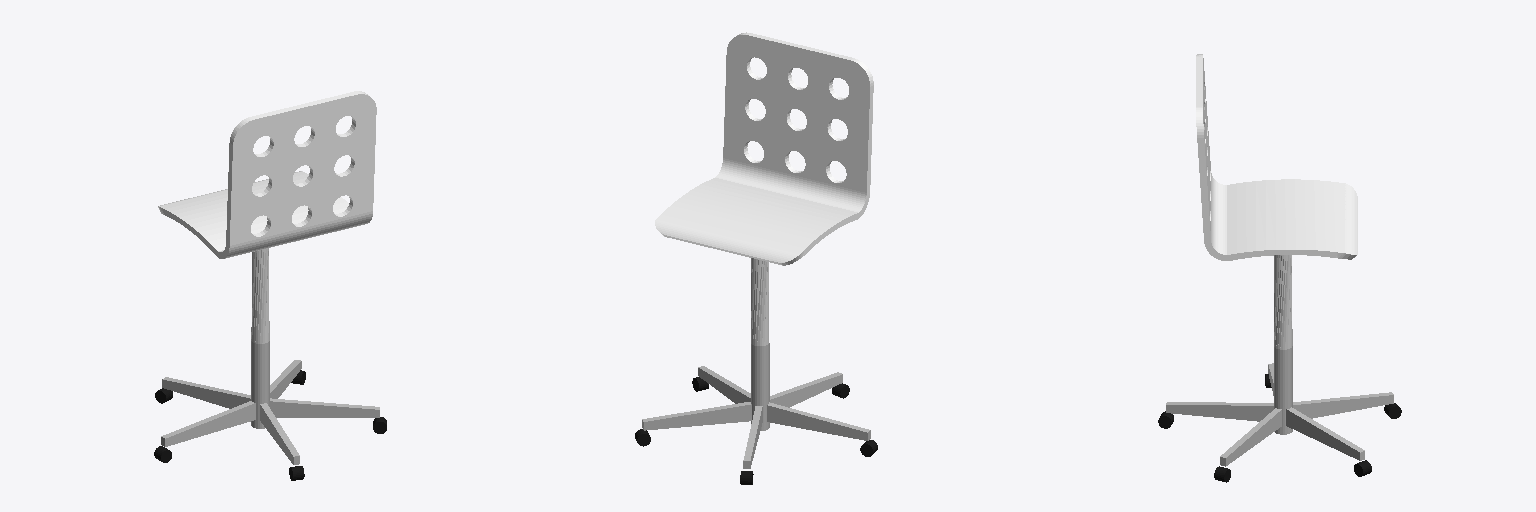
The picture shows the model from 3 angles: view 1: azimuth 30°, elevation 25°; view 2: azimuth 150°, elevation 25°; view 3: azimuth 270°, elevation 25°; orthographic projection.
Visible parts, largest first — view 1: Mesh1 Group2 Group1 Model, Mesh12 Group3 ske3F1 Group1 Model, Mesh11 Group8 Group3 ske3F1 Group1 Model, Mesh9 Group7 Group3 ske3F1 Group1 Model, Mesh7 Group6 Group3 ske3F1 Group1 Model, Mesh5 Group5 Group3 ske3F1 Group1 Model, Mesh3 Group4 Group3 ske3F1 Group1 Model; view 2: Mesh1 Group2 Group1 Model, Mesh12 Group3 ske3F1 Group1 Model, Mesh3 Group4 Group3 ske3F1 Group1 Model, Mesh9 Group7 Group3 ske3F1 Group1 Model, Mesh5 Group5 Group3 ske3F1 Group1 Model, Mesh11 Group8 Group3 ske3F1 Group1 Model, Mesh7 Group6 Group3 ske3F1 Group1 Model; view 3: Mesh1 Group2 Group1 Model, Mesh12 Group3 ske3F1 Group1 Model, Mesh5 Group5 Group3 ske3F1 Group1 Model, Mesh7 Group6 Group3 ske3F1 Group1 Model, Mesh3 Group4 Group3 ske3F1 Group1 Model, Mesh11 Group8 Group3 ske3F1 Group1 Model.
Part boxes in pixels (x1,y1,x2,y2): Mesh1 Group2 Group1 Model: (158,91,376,258); Mesh12 Group3 ske3F1 Group1 Model: (251,248,269,428); Mesh11 Group8 Group3 ske3F1 Group1 Model: (269,398,379,417); Mesh9 Group7 Group3 ske3F1 Group1 Model: (161,401,255,446); Mesh7 Group6 Group3 ske3F1 Group1 Model: (162,377,250,408); Mesh5 Group5 Group3 ske3F1 Group1 Model: (260,403,299,464); Mesh3 Group4 Group3 ske3F1 Group1 Model: (270,360,301,398); Mesh1 Group2 Group1 Model: (655,32,873,265); Mesh12 Group3 ske3F1 Group1 Model: (751,258,769,430); Mesh3 Group4 Group3 ske3F1 Group1 Model: (642,402,751,430); Mesh9 Group7 Group3 ske3F1 Group1 Model: (767,402,870,440); Mesh5 Group5 Group3 ske3F1 Group1 Model: (770,372,842,407); Mesh11 Group8 Group3 ske3F1 Group1 Model: (698,366,750,403); Mesh7 Group6 Group3 ske3F1 Group1 Model: (743,406,762,468); Mesh1 Group2 Group1 Model: (1196,54,1357,260); Mesh12 Group3 ske3F1 Group1 Model: (1274,255,1292,434); Mesh5 Group5 Group3 ske3F1 Group1 Model: (1166,402,1273,421); Mesh7 Group6 Group3 ske3F1 Group1 Model: (1293,392,1393,418); Mesh3 Group4 Group3 ske3F1 Group1 Model: (1286,407,1364,460); Mesh11 Group8 Group3 ske3F1 Group1 Model: (1220,408,1281,466).
Size of the model in its own units: 0.5385 by 0.8861 by 0.5485.